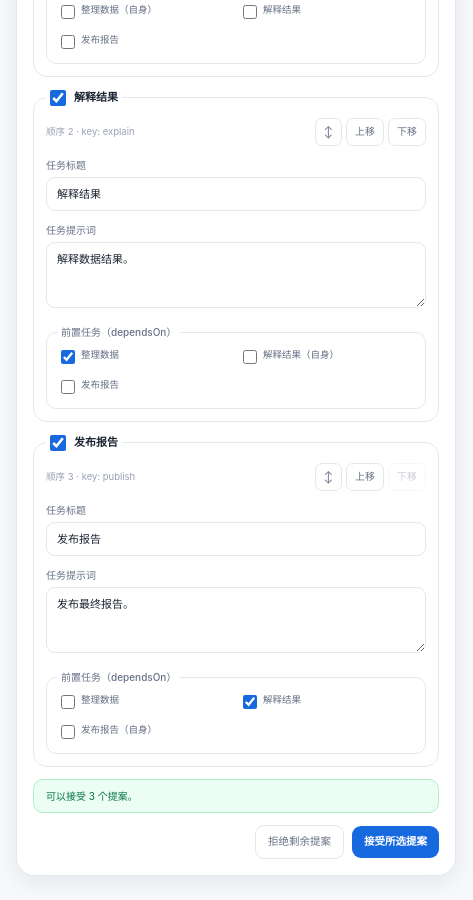
Test case: Canvas Task proposal review integration › keeps the review pending when daemon flush fails after optimistic acceptance
(page scrolled)
Click the button with test id "proposal-accept" at [396, 842], box x1=352 y1=826 x2=439 y2=858
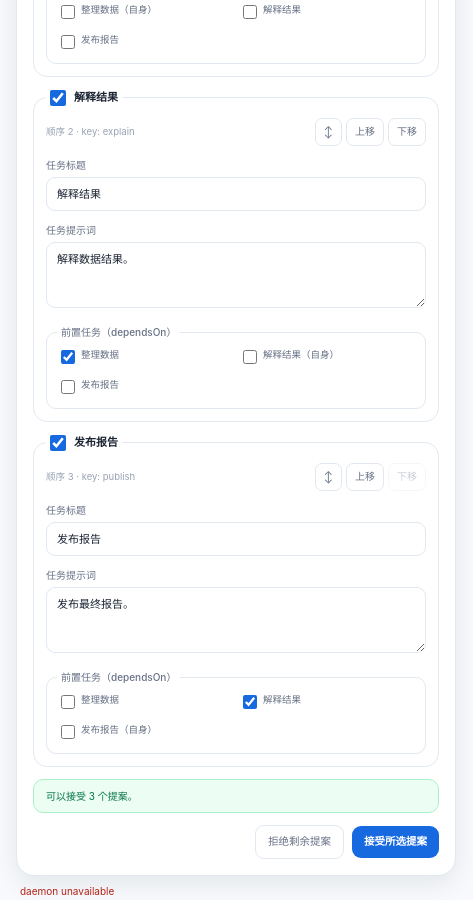
Check: the message "daemon unavailable" is shown, box x1=20 y1=885 x2=114 y2=897
